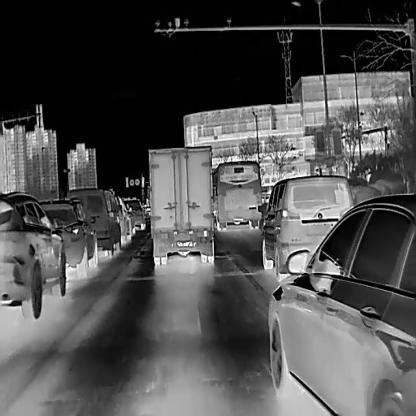bus: (209, 158, 263, 231)
car: (266, 191, 416, 415), (256, 174, 355, 282), (0, 188, 66, 318), (35, 196, 100, 276), (65, 185, 122, 257), (122, 198, 146, 229)
truck: (146, 144, 214, 265)
